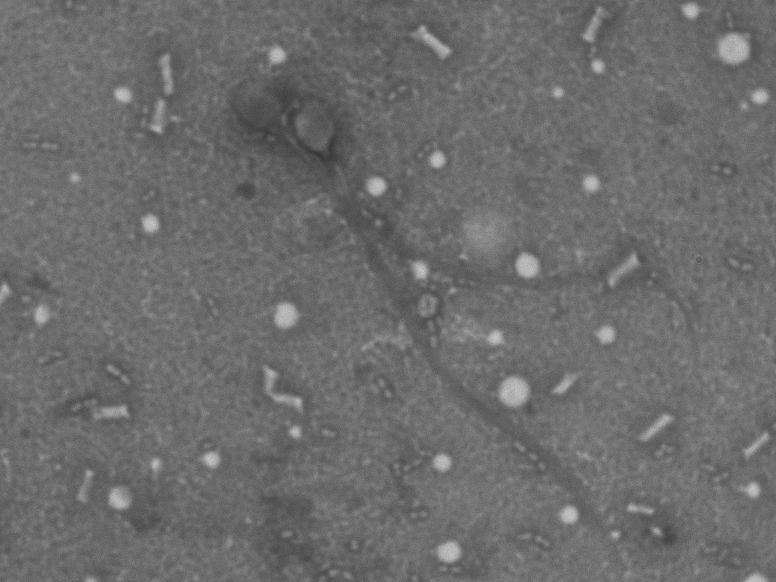Abnormal: (125, 48, 681, 359)
